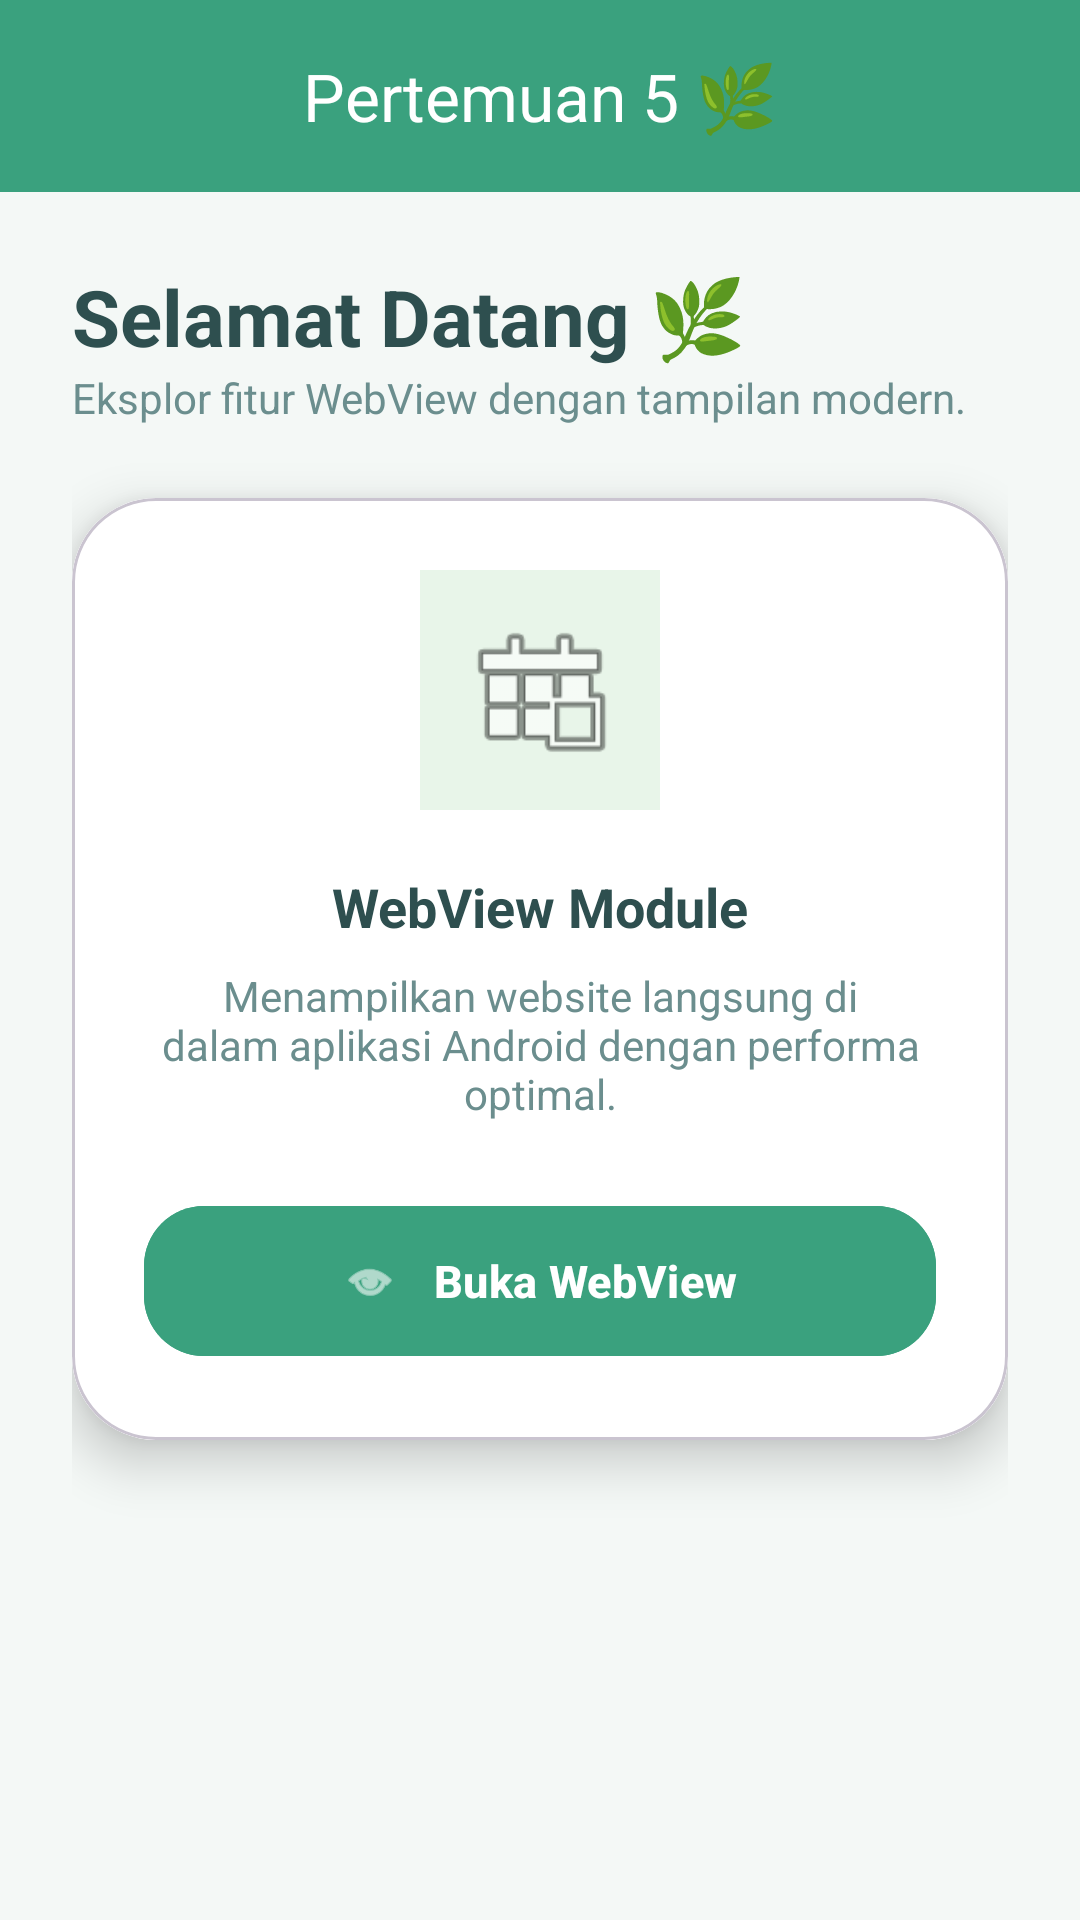

Screen size 1080×1920. Icon name, then its box in pixels as (x1, y1, x2, y2):
today: (420, 570, 660, 810)
